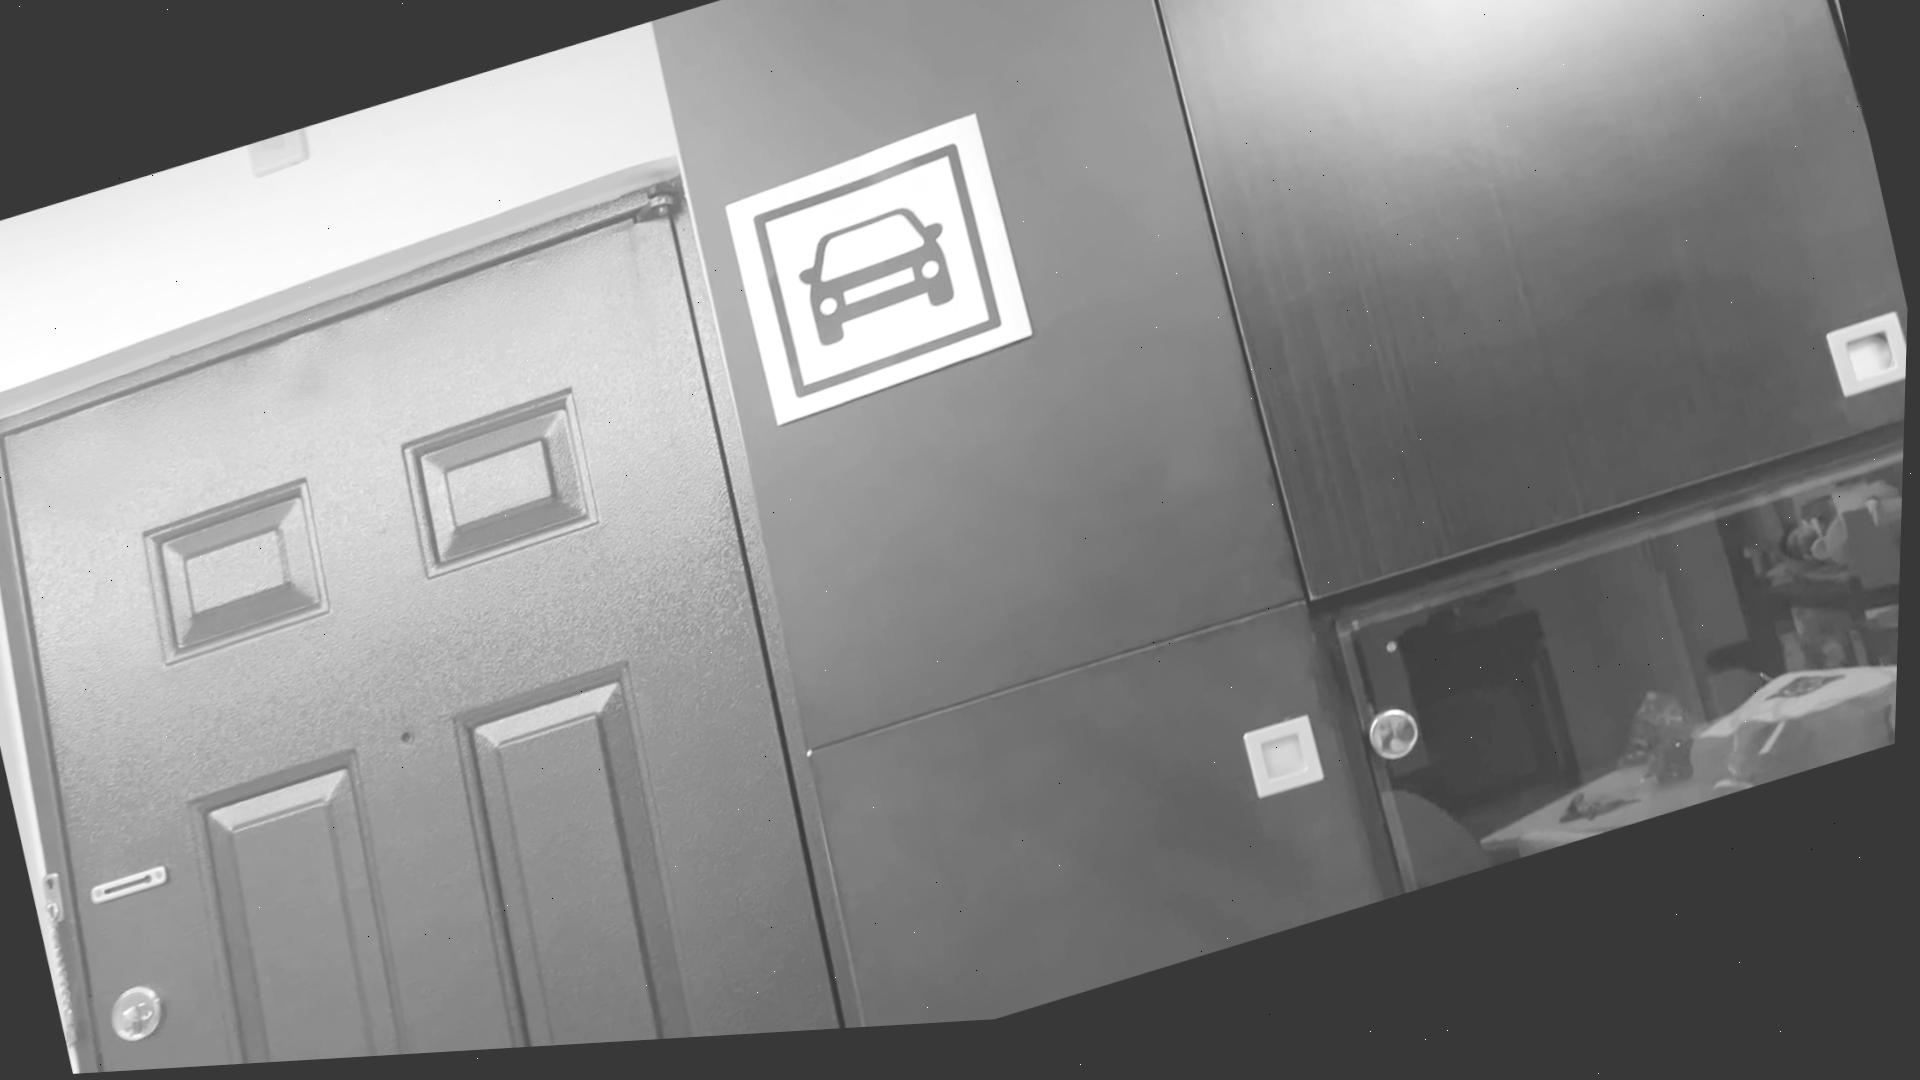car_img: (738, 146, 1019, 421)
